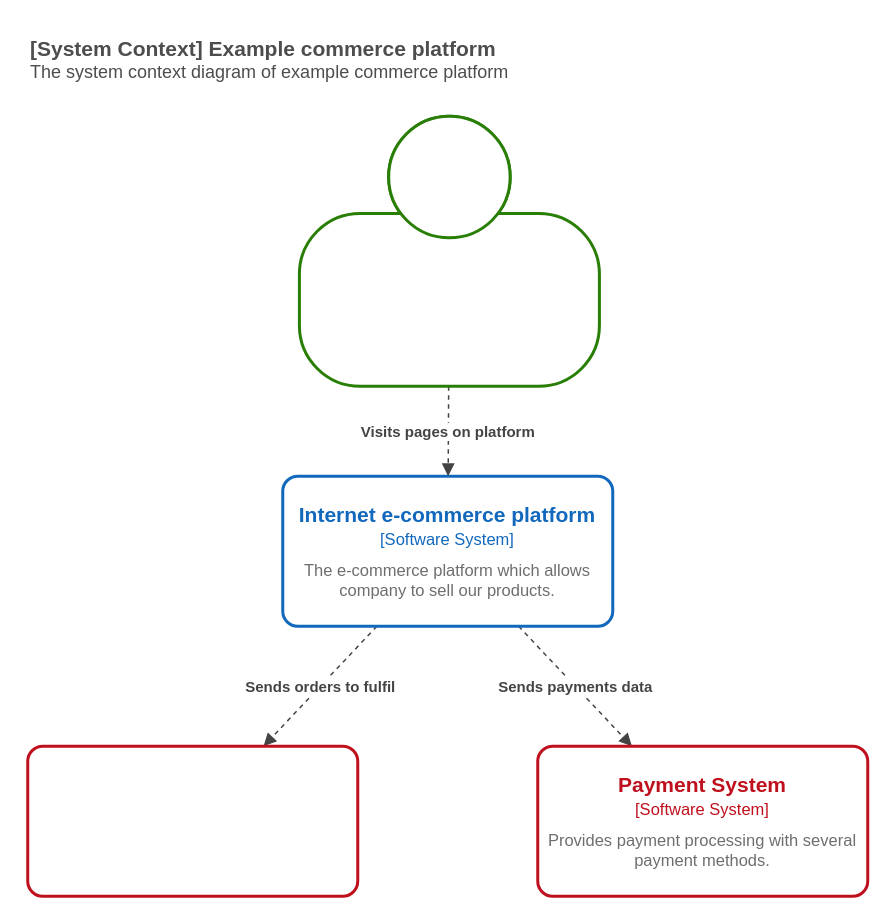
Some shapes in this 894 by 923 pixel diagram are drawn without their labels. The shapes that lost their labels are listed below. From the top down, each one's centre as x and y in pixels, then its label:
At point 448,250: "Customer [Person] A customer of e-commerce platform.".
At point 192,820: "Fullfilment System [Software System] Processing fullfilment operations.".
